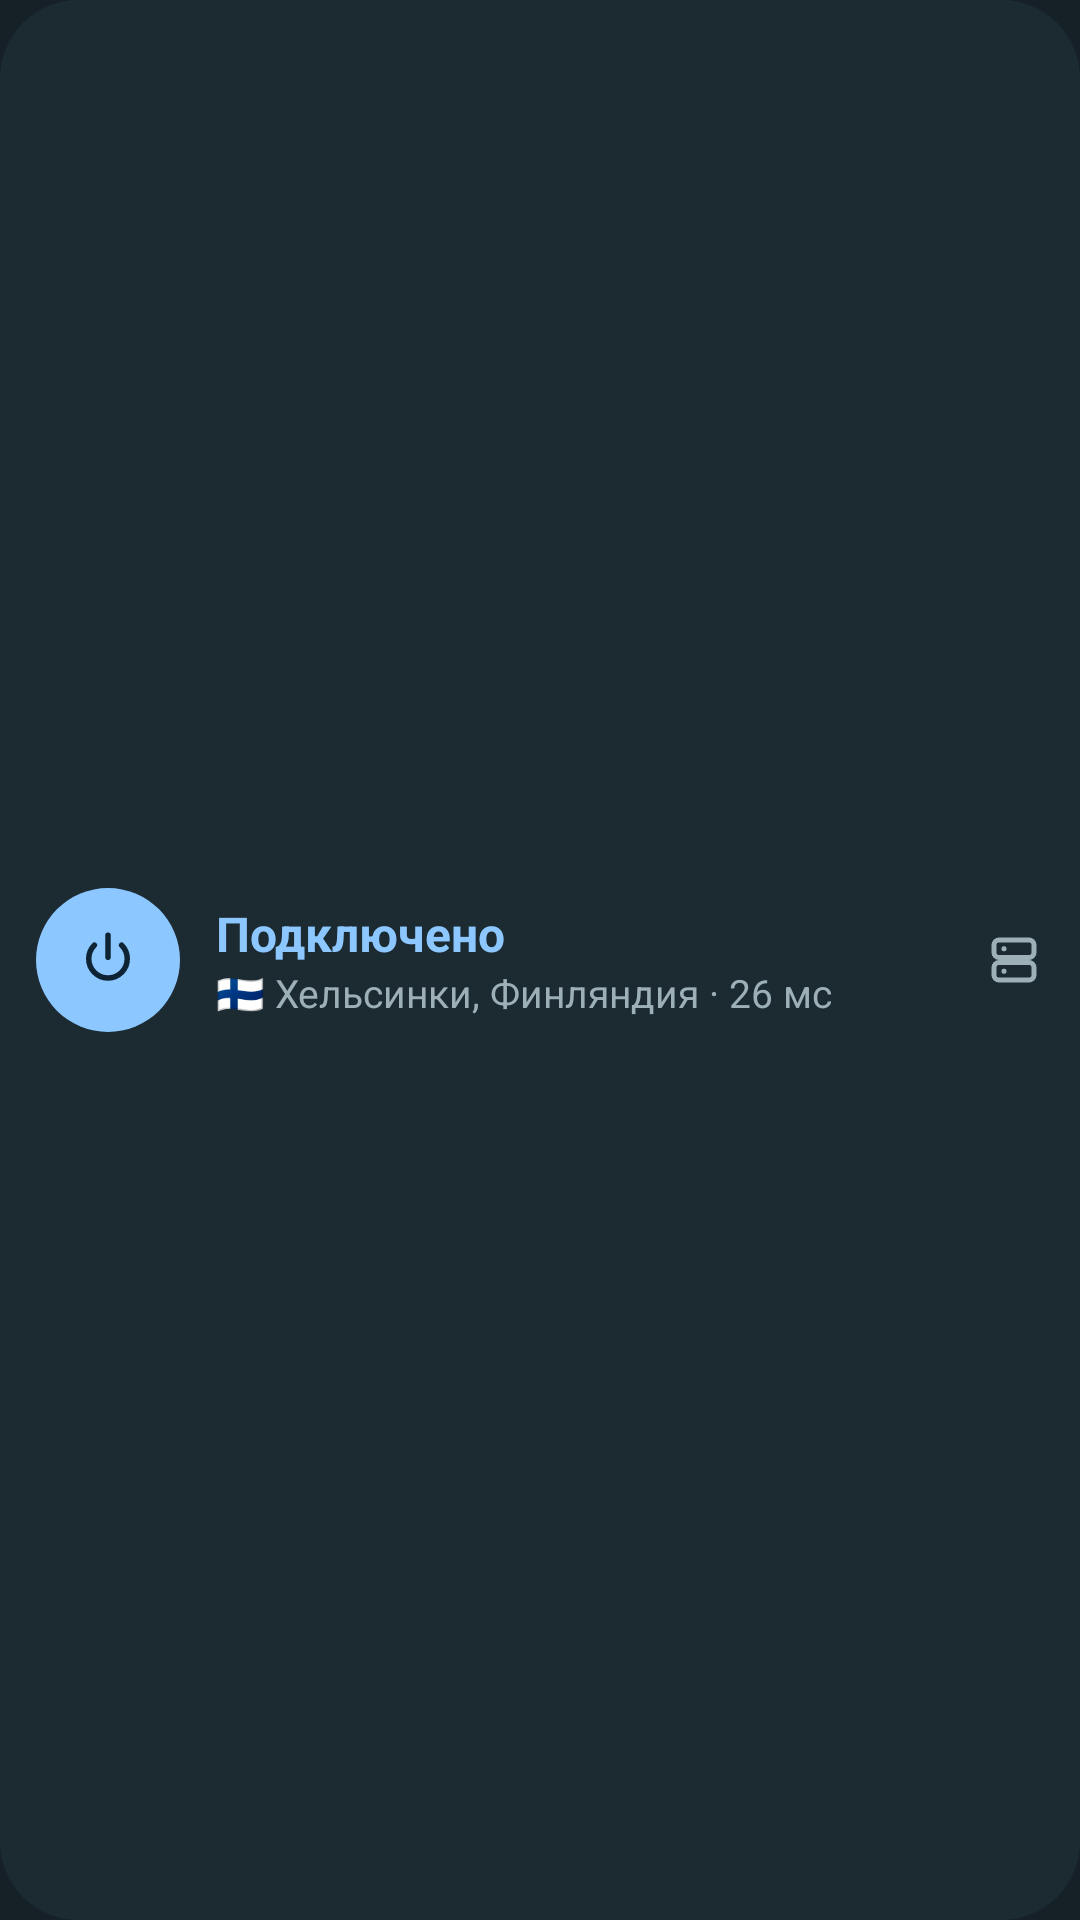

Where to tap for icons on this 1080px x 1920px app screen, as (x=x, y=y):
power: (x=108, y=956)
servers: (x=1014, y=960)
